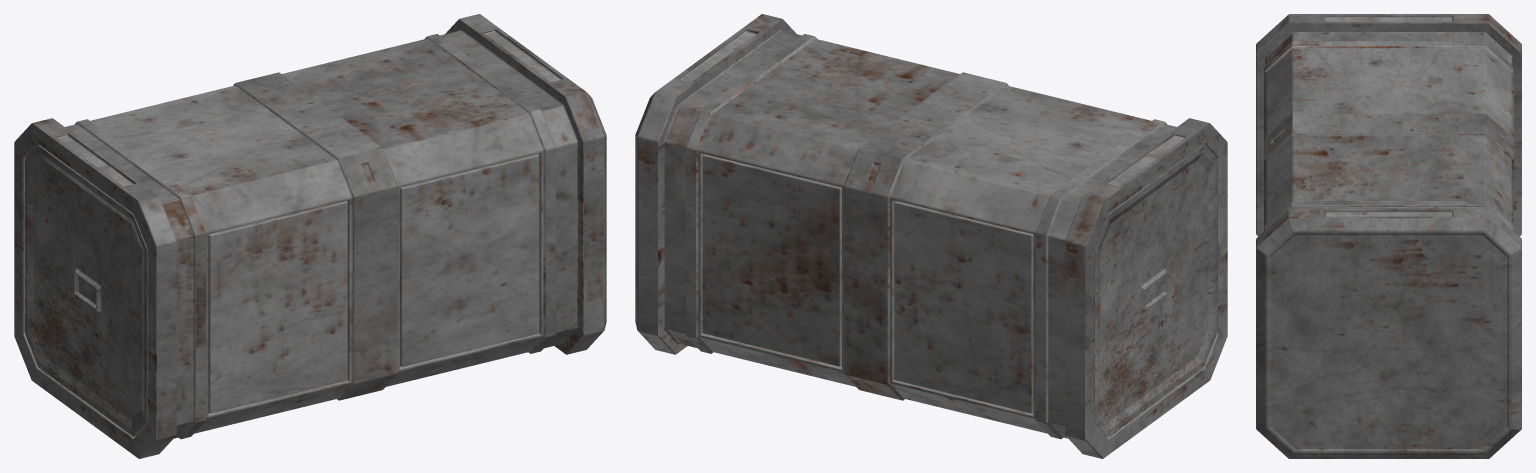
File: LuzTechoColgante.fbx
3 renders of one model, left to right at view 1: azimuth 30°, elevation 25°; view 2: azimuth 150°, elevation 25°; view 3: azimuth 270°, elevation 25°, orthographic. The views are drawn at different scales.
Visible parts, largest first — view 1: Container, Container_Tapa; view 2: Container, Container_Tapa; view 3: Container.
Part boxes in pixels (<box>): Container: <box>14,14,606,458</box>; Container_Tapa: <box>24,145,147,436</box>; Container: <box>635,14,1227,458</box>; Container_Tapa: <box>1094,145,1217,436</box>; Container: <box>1256,14,1521,458</box>.
Bounding box in the file's own units: 905 × 489 × 489.
Materials: 2 (2 with a texture image).
